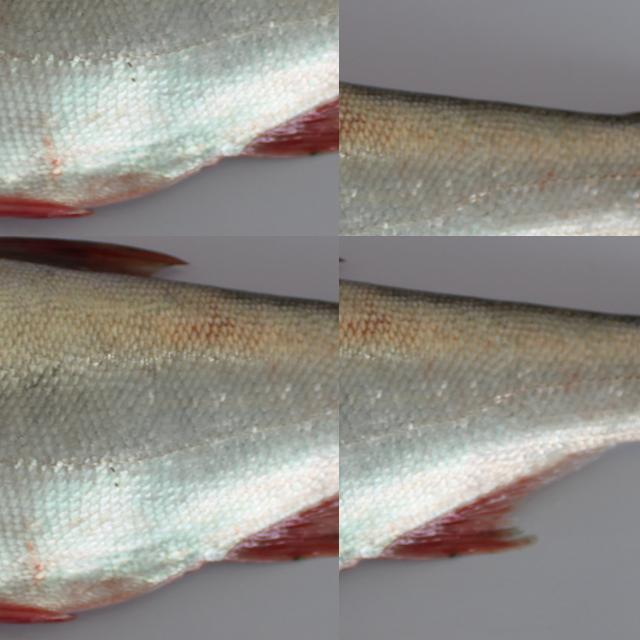fish: (339, 236, 640, 629)
